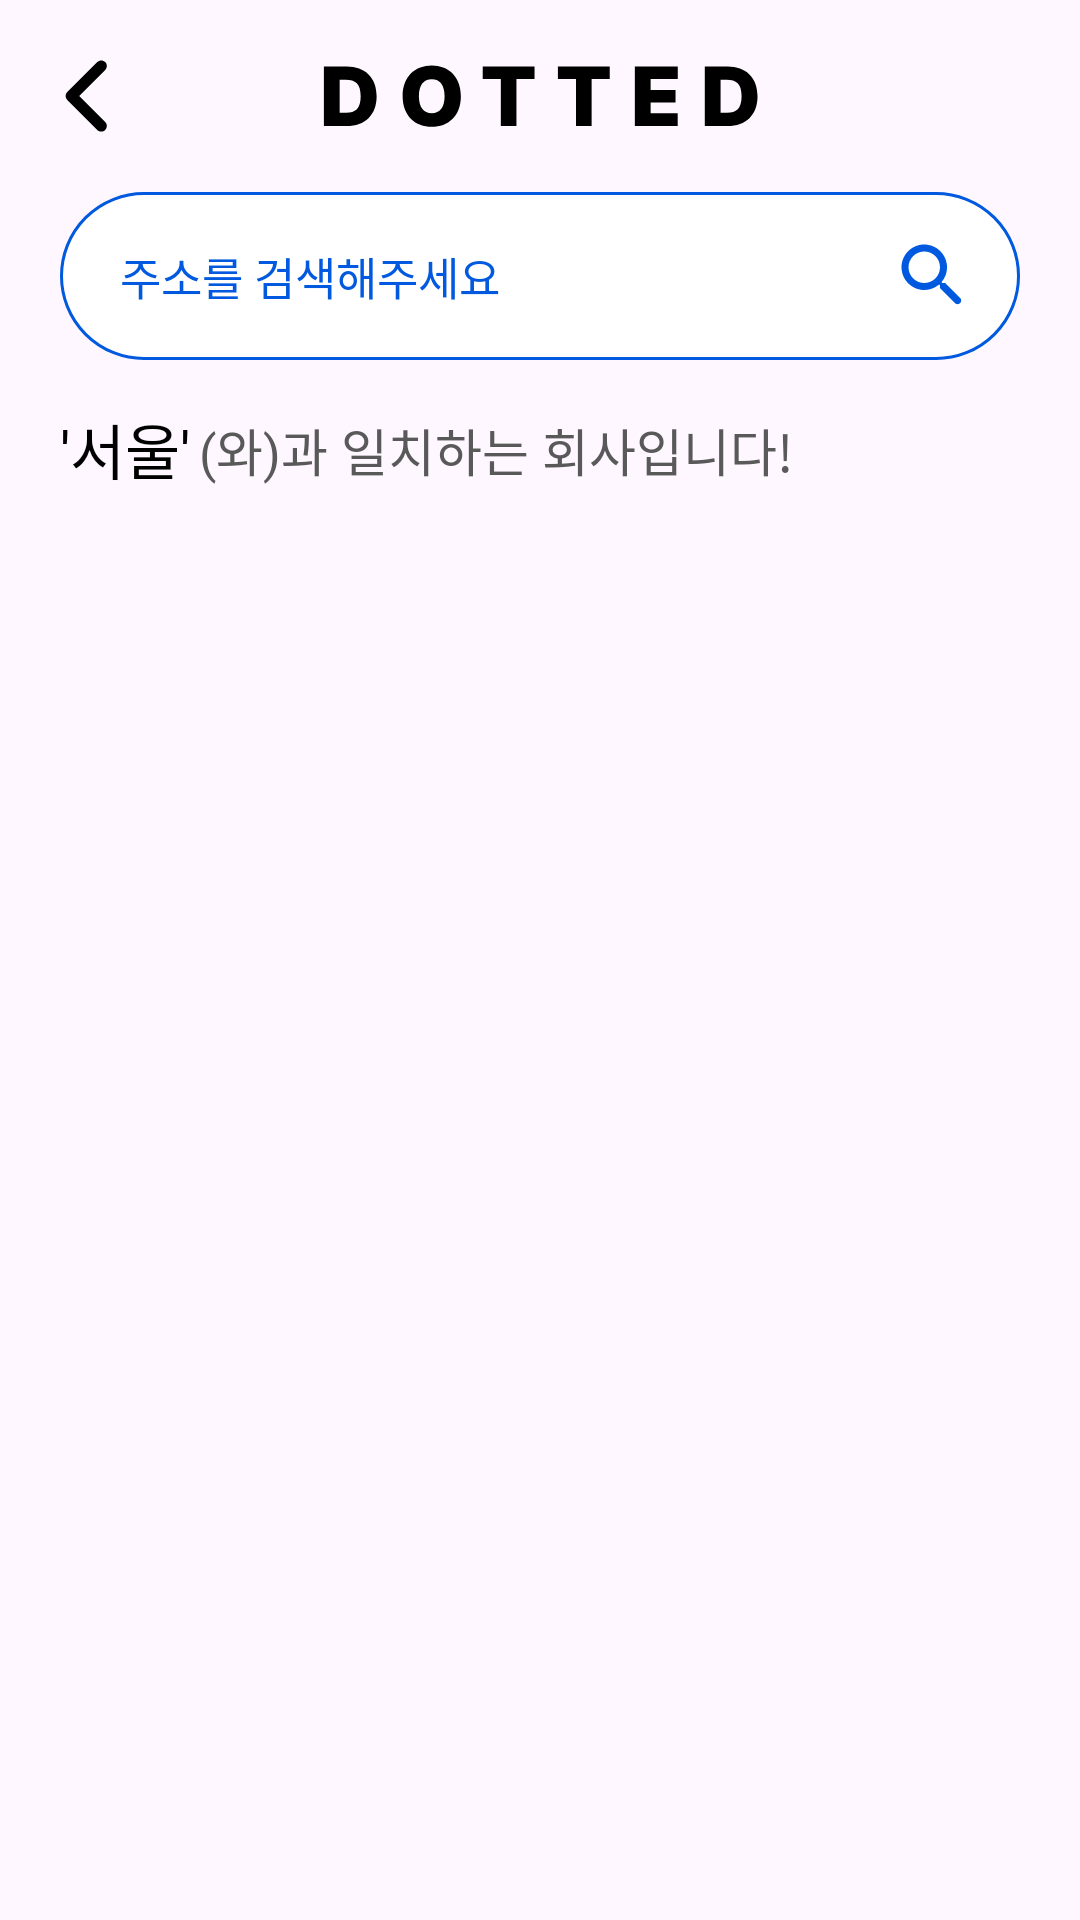

Named icons in this screenshot (1080px×1920px) and their centers, (x,y):
left arrow: (86,96)
search: (931,274)
